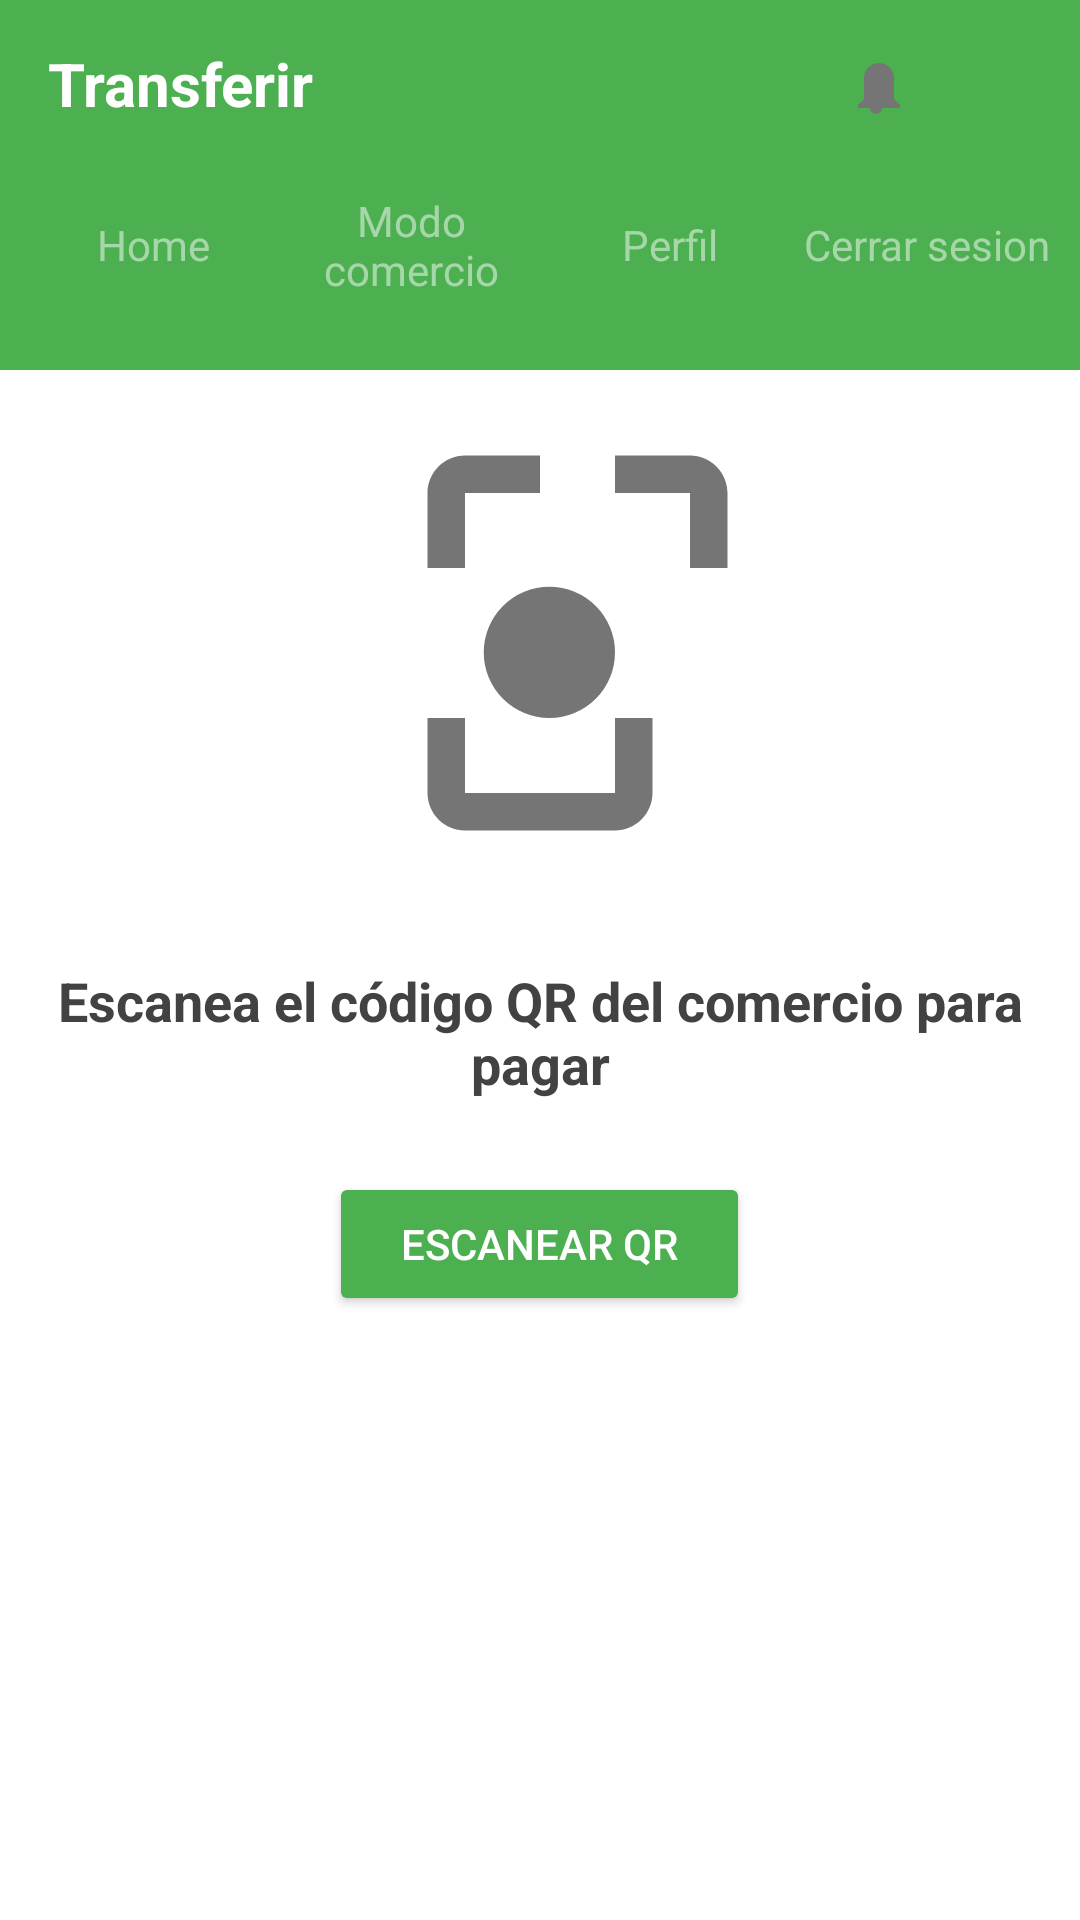

Screen size 1080px x 1920px. Icon name, then its box in pixels as (x1, y1, x2, y2):
Notificaciones: (858, 63, 900, 114)
